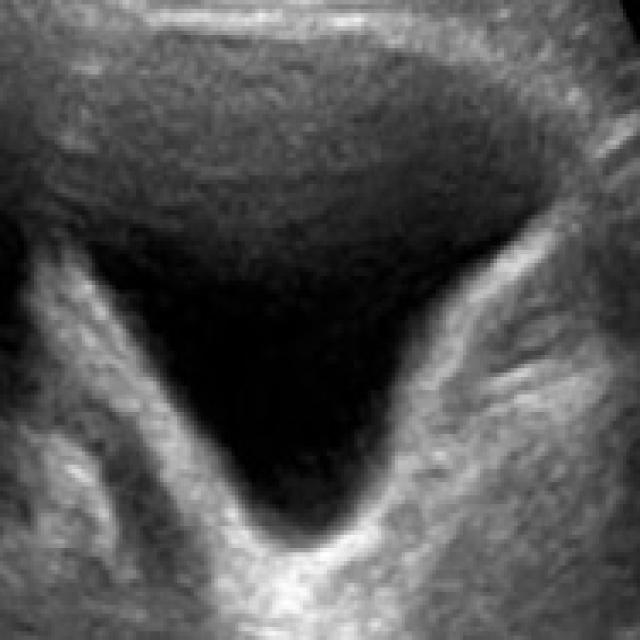bladder: (39, 0, 596, 596)
